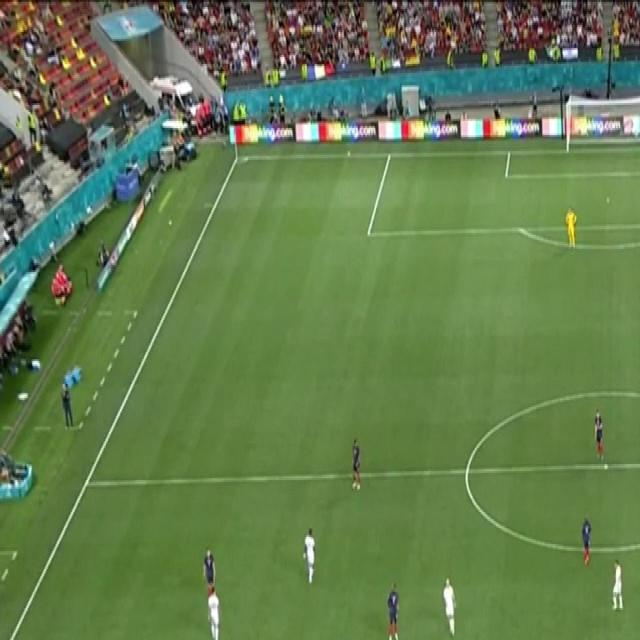player-white: (300, 524, 318, 588), (442, 574, 458, 640), (384, 579, 400, 640), (348, 434, 364, 492), (206, 586, 222, 640), (578, 514, 594, 568), (610, 557, 624, 617), (592, 406, 606, 464), (202, 546, 217, 598), (564, 204, 579, 252)
